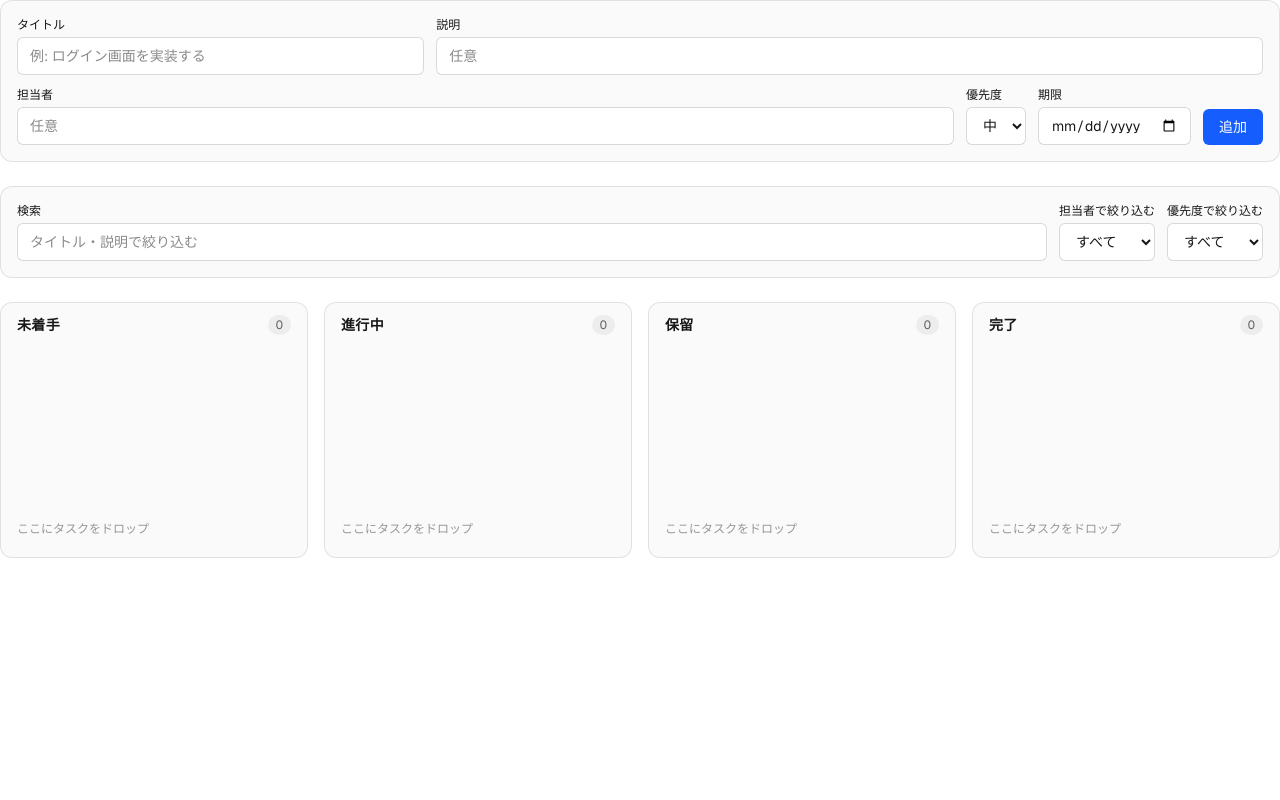
Test: Board › タイトルが空のままでは追加されない
Click the button "追加": (1233, 127) [1203,109,1263,145]
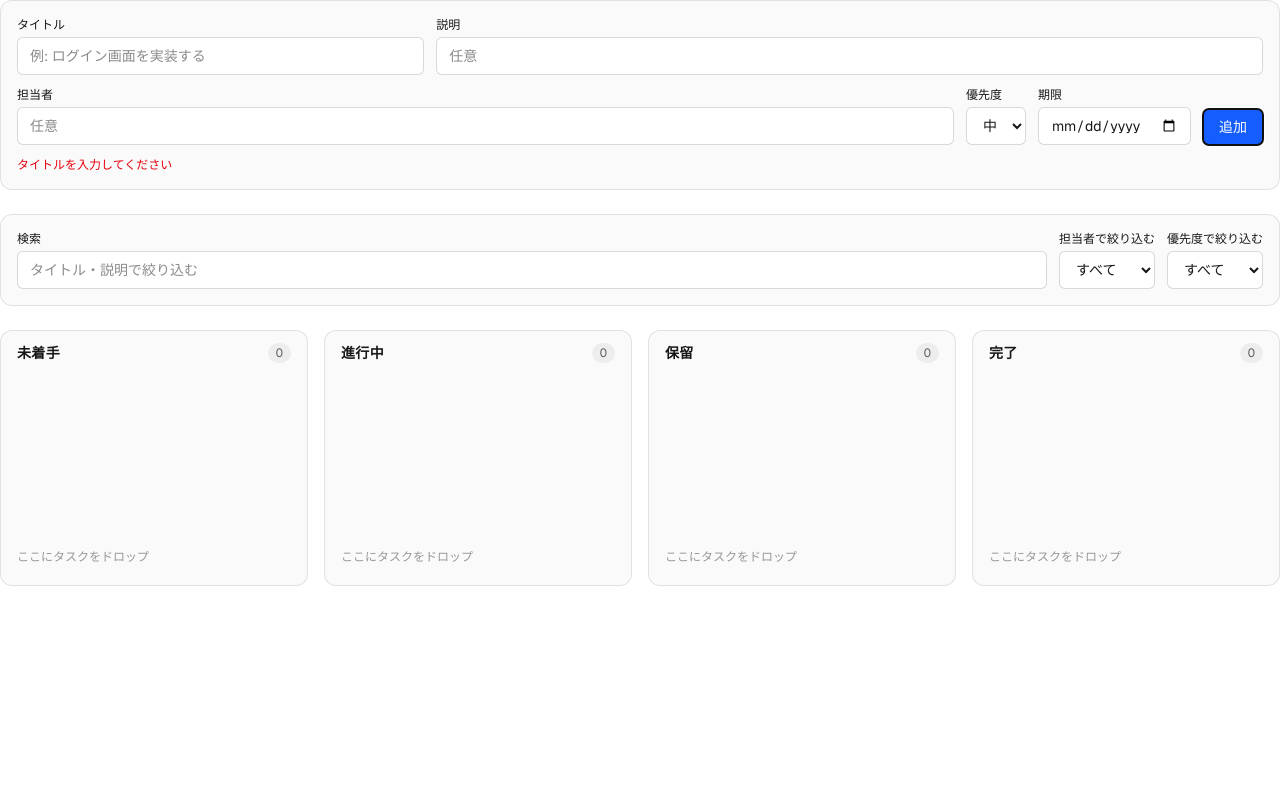
Expected: the text named "未着手のタスク数" reads "0", [276,345,283,361]
Expected: the message "タイトルを入力してください" is shown, [17,157,172,173]
